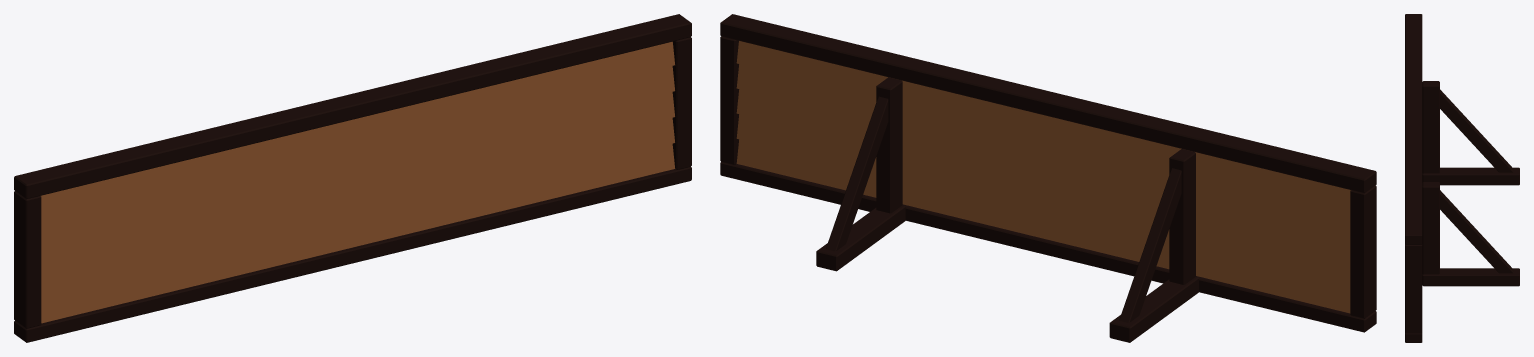
File: ww_sign_a.glb
The picture shows the model from 3 angles, left to right: view 1: azimuth 30°, elevation 25°; view 2: azimuth 150°, elevation 25°; view 3: azimuth 270°, elevation 25°; orthographic projection. The views are drawn at different scales.
Parts seen in each view (by area): view 1: Sign_A; view 2: Sign_A; view 3: Sign_A.
Boxes of the visible parts, x1,y1,x2,y2 form: Sign_A: [14, 14, 691, 342]; Sign_A: [720, 14, 1376, 342]; Sign_A: [1405, 14, 1519, 342].
Size of the model in its own units: 10.56 by 2.4 by 2.31.
